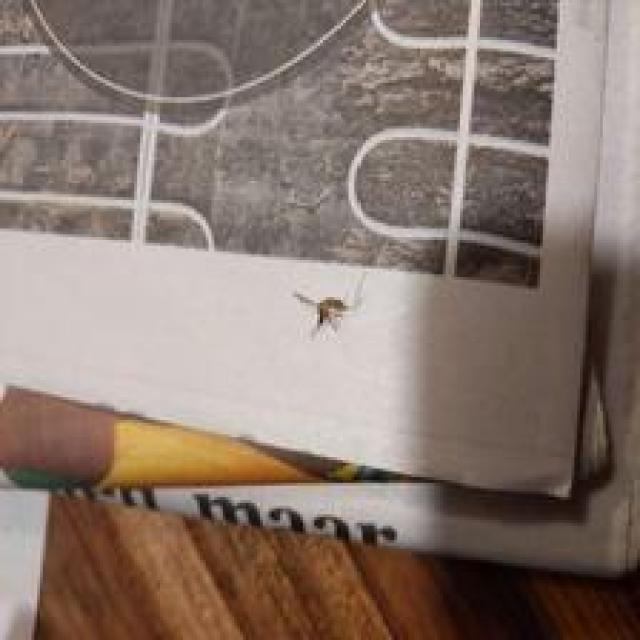Culex: (292, 270, 368, 336)
